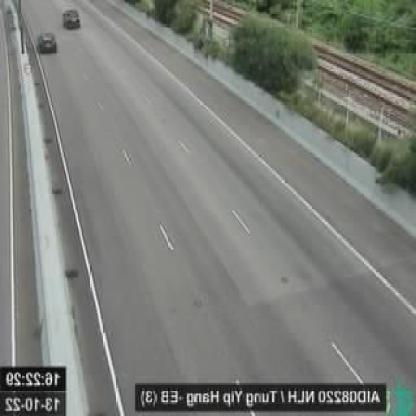Car: (37, 30, 55, 52), (61, 10, 80, 30)
